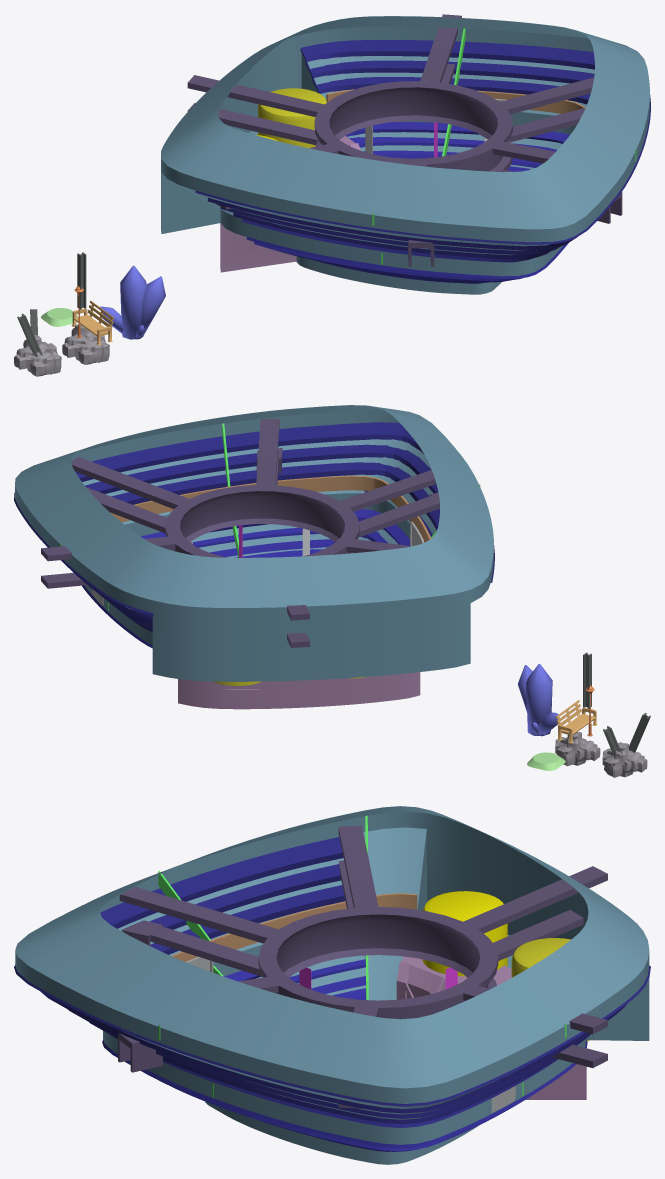
File: 棒球場Mango.fbx
3 renders of one model, top to bottom at view 1: azimuth 30°, elevation 25°; view 2: azimuth 150°, elevation 25°; view 3: azimuth 270°, elevation 25°, orthographic. The views are drawn at different scales.
Parts seen in each view (by area): view 1: 球場, 天頂, 階梯2, 階梯, 水晶, 球場.001, 油桶.001, 石堆, 石堆.001, 椅子, 柵欄2, 鋼條; view 2: 球場, 天頂, 階梯2, 球場.001, 階梯, 柵欄2, 水晶, 石堆.001, 石堆, 椅子; view 3: 球場, 天頂, 階梯2, 階梯, 球場.001, 油桶, 柵欄2, 油桶.001, 分隔.
Part boxes in pixels (x1=…): 球場: x1=161, y1=16, x2=649, y2=294; 天頂: x1=187, y1=14, x2=622, y2=266; 階梯2: x1=195, y1=40, x2=650, y2=262; 階梯: x1=246, y1=122, x2=569, y2=283; 水晶: x1=100, y1=265, x2=165, y2=339; 球場.001: x1=220, y1=136, x2=360, y2=272; 油桶.001: x1=258, y1=88, x2=326, y2=148; 石堆: x1=62, y1=324, x2=109, y2=364; 石堆.001: x1=14, y1=335, x2=61, y2=376; 椅子: x1=71, y1=300, x2=113, y2=345; 柵欄2: x1=326, y1=89, x2=585, y2=113; 鋼條: x1=77, y1=252, x2=86, y2=309; 球場: x1=15, y1=405, x2=493, y2=681; 天頂: x1=41, y1=419, x2=439, y2=647; 階梯2: x1=14, y1=422, x2=494, y2=631; 球場.001: x1=178, y1=672, x2=420, y2=709; 階梯: x1=82, y1=509, x2=410, y2=648; 柵欄2: x1=110, y1=475, x2=431, y2=542; 水晶: x1=518, y1=664, x2=558, y2=736; 石堆.001: x1=602, y1=742, x2=647, y2=777; 石堆: x1=555, y1=732, x2=600, y2=766; 椅子: x1=556, y1=700, x2=597, y2=743; 球場: x1=15, y1=806, x2=649, y2=1164; 天頂: x1=118, y1=825, x2=607, y2=1108; 階梯2: x1=14, y1=837, x2=650, y2=1127; 階梯: x1=102, y1=959, x2=587, y2=1151; 球場.001: x1=396, y1=956, x2=586, y2=1099; 油桶: x1=422, y1=891, x2=507, y2=976; 柵欄2: x1=171, y1=893, x2=417, y2=961; 油桶.001: x1=511, y1=938, x2=588, y2=1041; 分隔: x1=158, y1=815, x2=566, y2=1097.
Size of the model in its own units: 105567 by 31529 by 76504.
